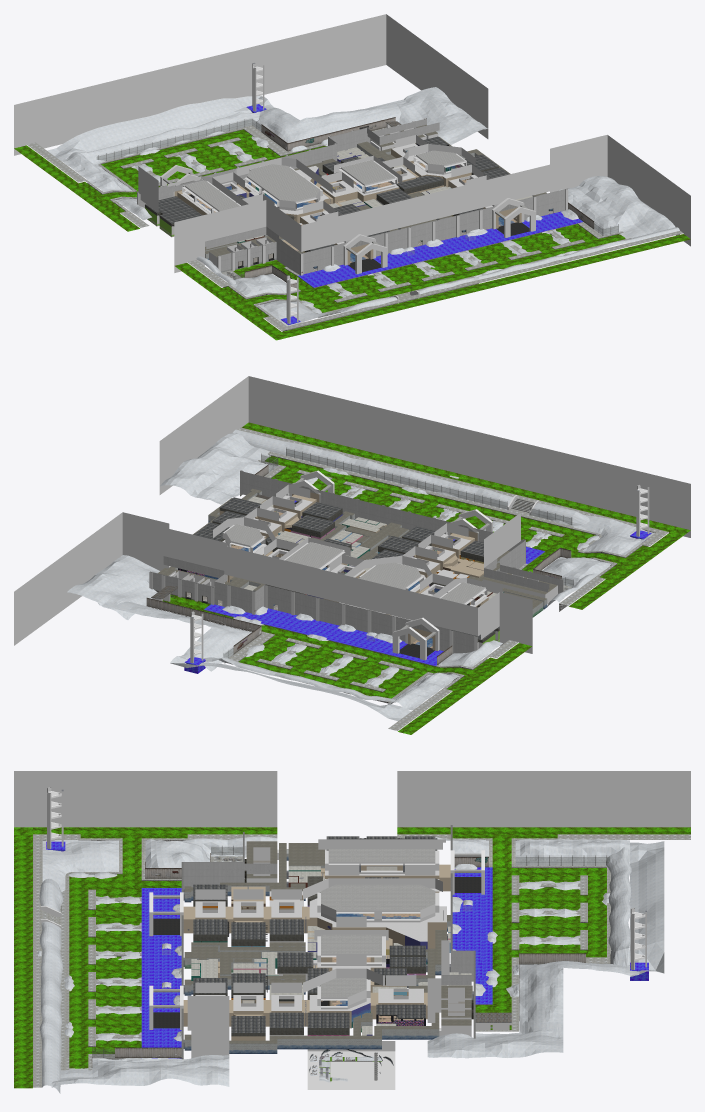
Rendered from everpine_mall_ps2.glb.
The picture shows the model from 3 angles, top to bottom: view 1: azimuth 30°, elevation 25°; view 2: azimuth 150°, elevation 25°; view 3: azimuth 270°, elevation 25°; orthographic projection. The views are drawn at different scales.
Visible parts, largest first — view 1: EverpineDisplacements, EverpineClipBounds, EverpineWorld; view 2: EverpineClipBounds, EverpineDisplacements, EverpineWorld; view 3: EverpineDisplacements, EverpineWorld, EverpineClipBounds, EverpineDoorJambs.
Part boxes in pixels (bbox=[...]): EverpineDisplacements: bbox=[14, 87, 690, 340]; EverpineClipBounds: bbox=[14, 14, 690, 272]; EverpineWorld: bbox=[27, 63, 682, 331]; EverpineClipBounds: bbox=[14, 376, 690, 653]; EverpineDisplacements: bbox=[67, 422, 690, 734]; EverpineWorld: bbox=[146, 427, 668, 730]; EverpineDisplacements: bbox=[14, 827, 690, 1093]; EverpineWorld: bbox=[33, 787, 690, 1087]; EverpineClipBounds: bbox=[14, 771, 690, 1089]; EverpineDoorJambs: bbox=[61, 789, 646, 1077].
Size of the model in its own units: 198 by 57.3 by 216.
Materials: 184 (166 with a texture image).
